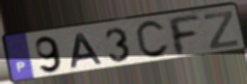3: (104, 26, 132, 63)
9: (34, 35, 64, 75)
A: (69, 32, 106, 70)
C: (133, 19, 171, 61)
F: (164, 14, 203, 58)
Z: (202, 9, 240, 51)
